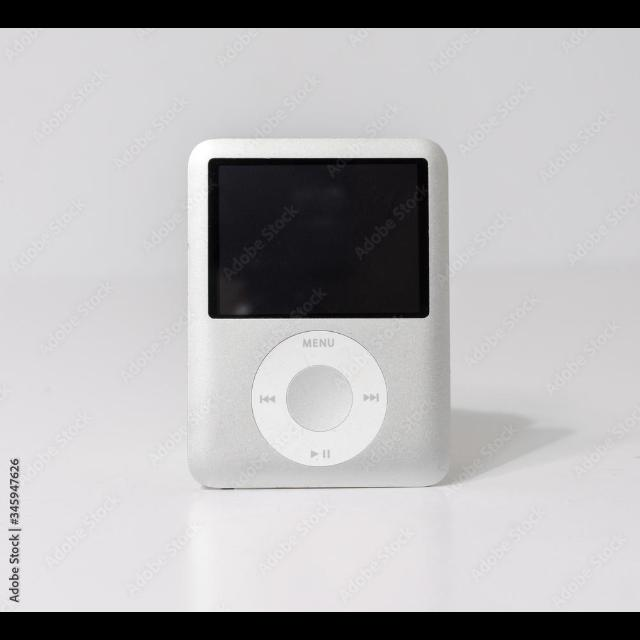Music-Player: (178, 124, 458, 512)
